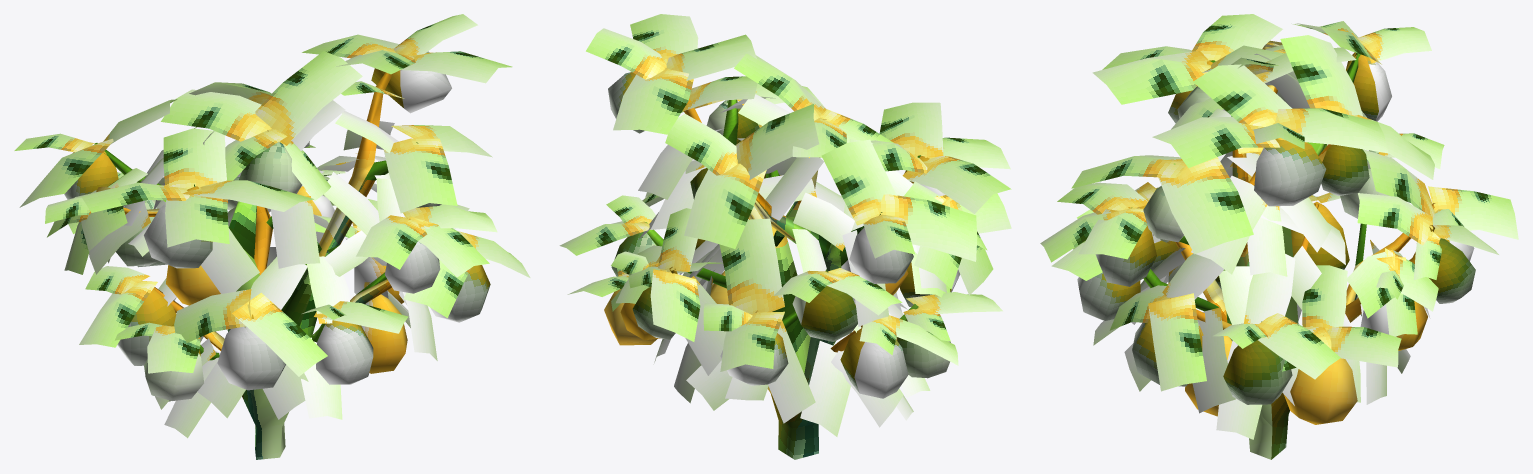
Rendered from botany_000012_02.FBX.
3 views of the same model, side by side, from view 1: azimuth 30°, elevation 25°; view 2: azimuth 150°, elevation 25°; view 3: azimuth 270°, elevation 25° (orthographic). The views are drawn at different scales.
Visible parts, largest first — view 1: botany_000012_02; view 2: botany_000012_02; view 3: botany_000012_02.
Part boxes in pixels (x1,y1,x2,y2): botany_000012_02: (14, 14, 530, 459); botany_000012_02: (559, 14, 1011, 459); botany_000012_02: (1040, 14, 1518, 459).
Size of the model in its own units: 138 by 117 by 120.
